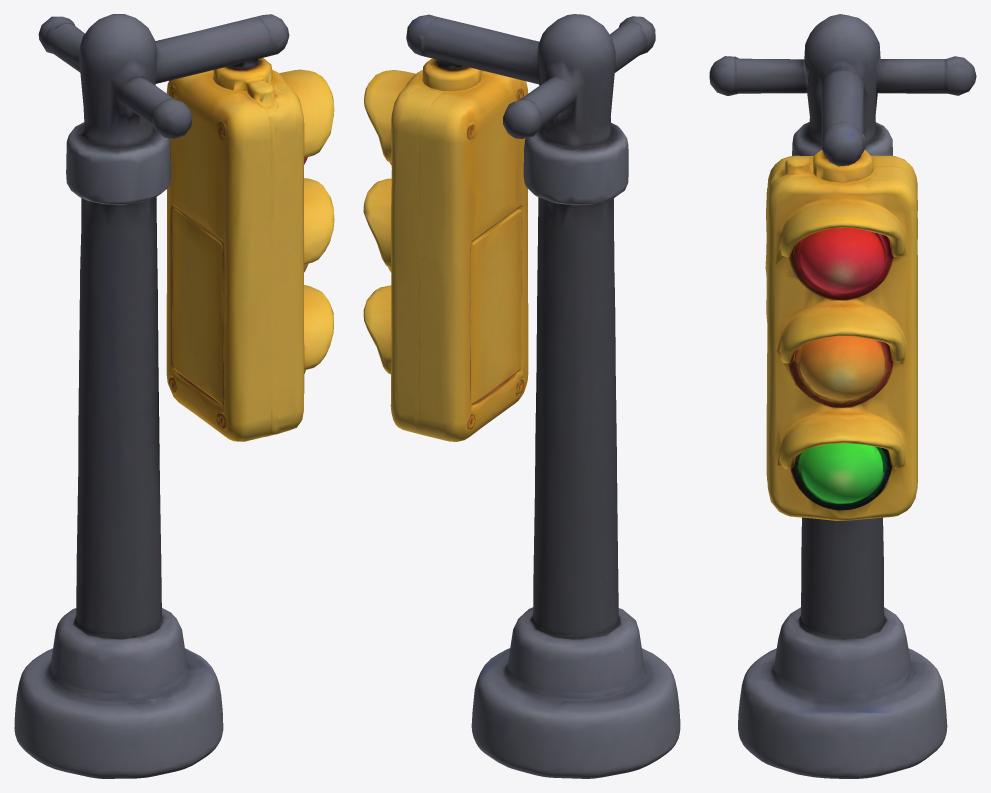
Rendered from traffic_light.glb.
3 renders of one model, left to right at view 1: azimuth 30°, elevation 25°; view 2: azimuth 150°, elevation 25°; view 3: azimuth 270°, elevation 25°, orthographic.
Visible parts, largest first — view 1: tripo_node_3c535199-8097-4b18-aec8-458283f69aab; view 2: tripo_node_3c535199-8097-4b18-aec8-458283f69aab; view 3: tripo_node_3c535199-8097-4b18-aec8-458283f69aab.
Part boxes in pixels (x1,y1,x2,y2): tripo_node_3c535199-8097-4b18-aec8-458283f69aab: [14, 14, 334, 778]; tripo_node_3c535199-8097-4b18-aec8-458283f69aab: [363, 14, 680, 778]; tripo_node_3c535199-8097-4b18-aec8-458283f69aab: [709, 14, 976, 778].
Bounding box in the file's own units: 0.4155 × 0.9796 × 0.3282.
1 material, 1 textured.
